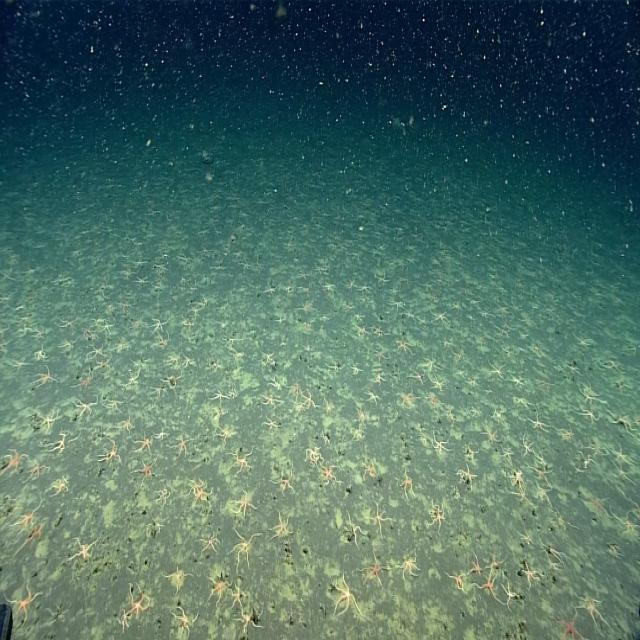brittle-stars: (2, 588, 46, 626), (332, 578, 362, 619), (581, 595, 610, 631), (127, 582, 150, 624), (552, 610, 582, 640), (232, 530, 255, 567), (69, 537, 97, 565), (173, 605, 196, 639), (611, 412, 638, 440), (166, 564, 192, 592), (363, 556, 387, 586), (370, 502, 391, 536), (236, 608, 262, 634), (397, 551, 420, 580), (481, 566, 500, 601), (346, 513, 366, 546), (208, 575, 231, 603), (102, 440, 124, 469), (25, 519, 49, 545), (272, 470, 296, 495), (318, 465, 343, 489), (4, 447, 27, 473), (615, 516, 640, 539), (520, 560, 540, 588), (272, 511, 293, 537), (232, 493, 255, 516), (230, 450, 254, 472), (197, 533, 221, 555), (578, 384, 602, 406), (535, 482, 554, 509), (171, 436, 191, 461), (501, 582, 519, 609), (400, 471, 416, 501), (35, 369, 60, 388), (12, 511, 41, 527), (432, 433, 451, 457), (395, 336, 416, 357), (446, 571, 468, 591), (75, 399, 98, 418), (431, 502, 446, 531), (301, 388, 319, 412), (612, 444, 632, 465), (529, 415, 550, 435), (422, 353, 443, 373), (50, 433, 67, 457), (581, 406, 601, 426), (28, 459, 46, 481), (231, 584, 245, 612), (51, 475, 70, 495), (135, 436, 154, 456), (615, 466, 634, 486), (304, 445, 324, 464), (460, 468, 478, 489), (400, 389, 418, 410), (76, 370, 92, 393), (40, 410, 58, 430), (136, 462, 156, 480), (362, 457, 376, 482), (260, 392, 280, 409), (83, 346, 107, 360), (424, 392, 441, 411), (105, 396, 124, 413), (470, 553, 484, 576), (264, 412, 280, 432), (489, 362, 505, 382), (430, 308, 450, 324), (150, 318, 168, 335), (218, 426, 234, 445), (501, 443, 514, 466), (212, 389, 229, 406), (116, 612, 132, 630), (374, 346, 388, 366), (508, 373, 524, 390), (511, 467, 524, 487), (120, 418, 136, 434), (366, 390, 381, 407), (431, 376, 445, 394), (189, 478, 202, 497), (371, 369, 384, 388), (196, 489, 212, 504), (126, 372, 141, 388), (354, 321, 370, 336), (154, 427, 169, 442), (183, 353, 196, 370), (351, 359, 363, 376), (374, 324, 384, 340), (470, 405, 482, 418)
